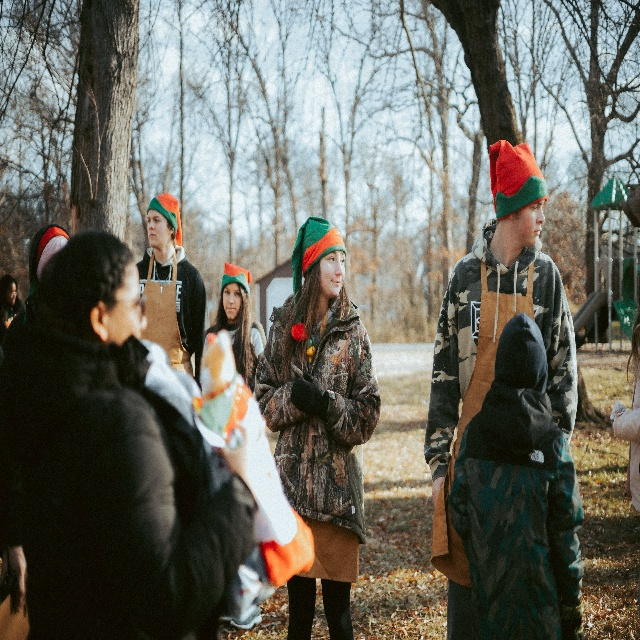Gafas: (110, 295, 147, 322)
Guantes: (289, 371, 326, 417)
Sin_guantes: (0, 545, 27, 613)
